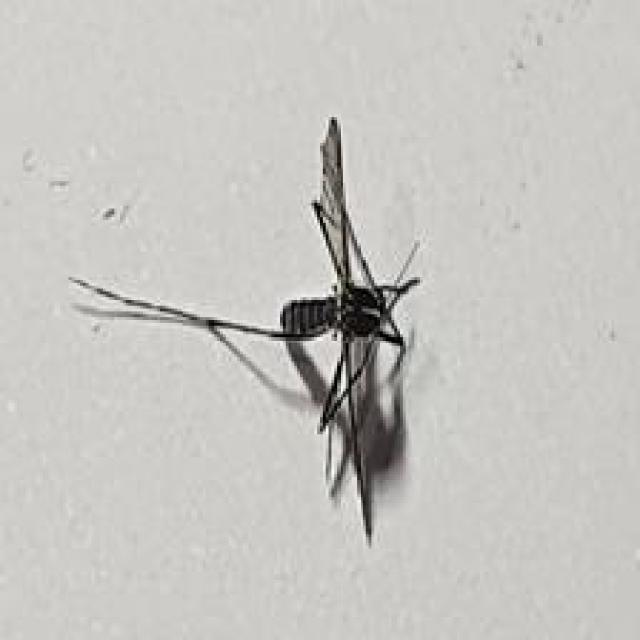Aedes albopictus: (67, 114, 424, 546)
